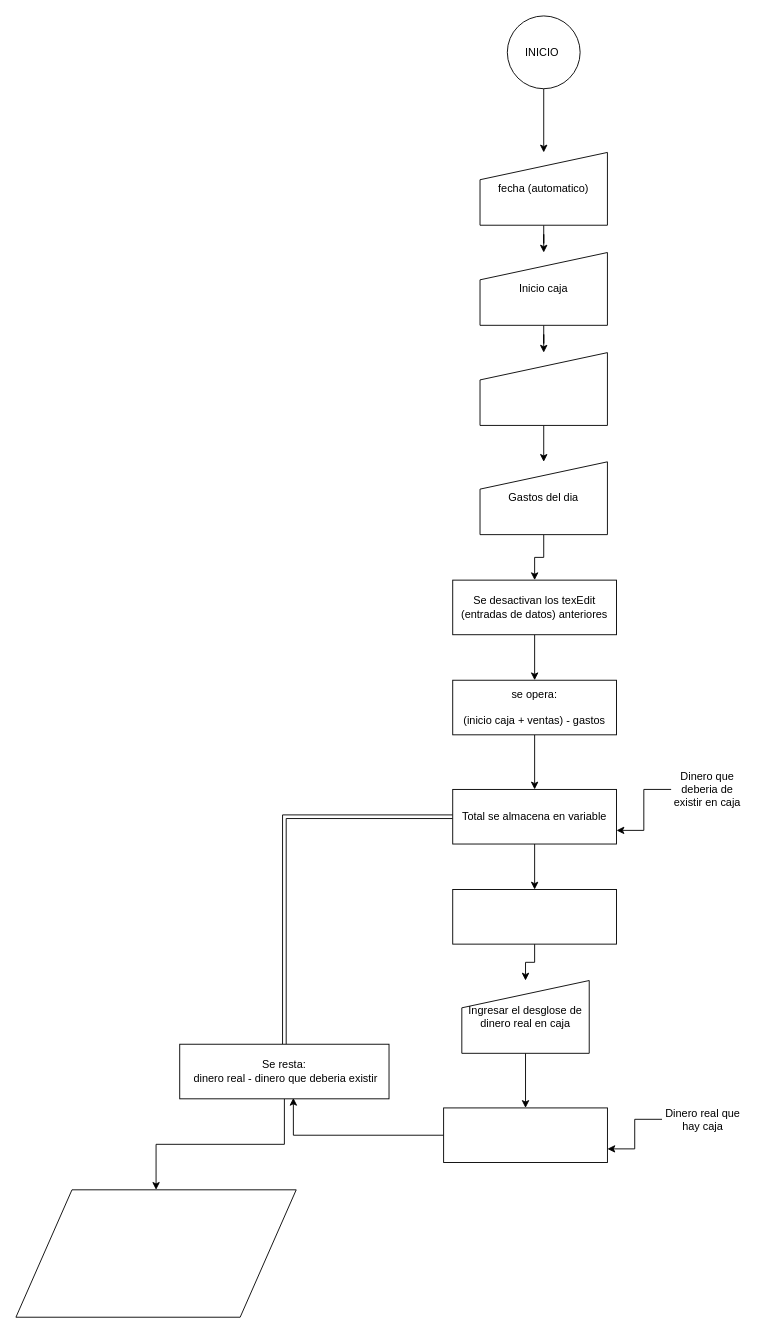
Some shapes in this 760 by 1333 pixel diagram are drawn without their labels. Each missing label, with the centre of its shape:
"Mostrar la diferencia que existe. Esto determinara si sobra o falta en caja" goes at (x=155, y=1253).
"Se activa el desglose de dinero" goes at (x=534, y=916).
"Se suma y se almacena en variable" goes at (x=525, y=1135).
"ventas del dia" goes at (x=543, y=388).
